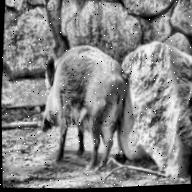boar: (17, 30, 137, 158)
